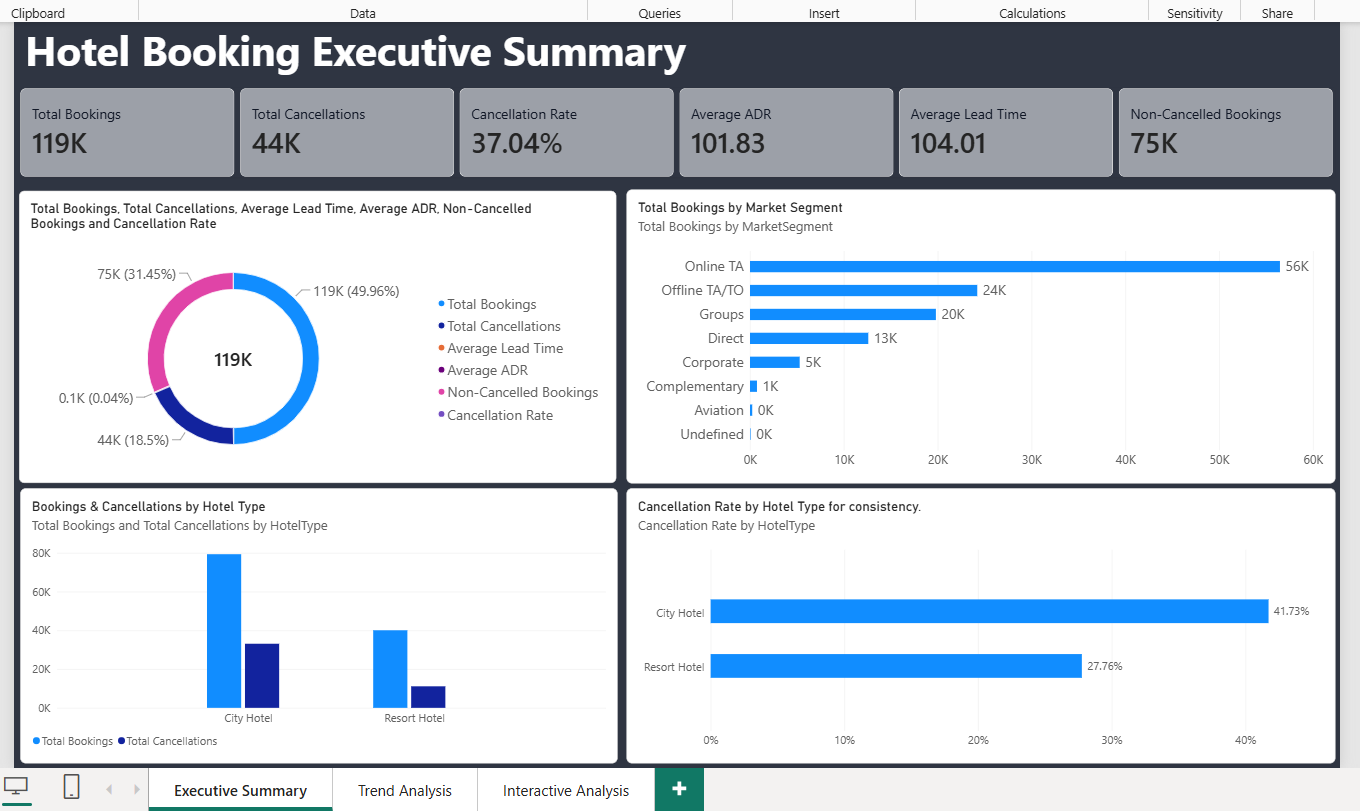

The dashboard page shown, as its layout file describes it:
{"tool":"powerbi","page":{"name":"Executive Summary","canvas":[1920,1080],"ordinal":0},"visuals":[{"type":"cardVisual","fields":{"Data":["mart BookingCancellationAnalysis.Total Bookings","mart BookingCancellationAnalysis.Total Cancellations","mart BookingCancellationAnalysis.Cancellation Rate","mart BookingCancellationAnalysis.Average ADR","mart BookingCancellationAnalysis.Average Lead Time","mart BookingCancellationAnalysis.Non-Cancelled Bookings"]},"box":[9,95.9,1903.8,128.5],"z":0},{"type":"clusteredColumnChart","title":"Bookings & Cancellations by Hotel Type","fields":{"Category":["mart BookingCancellationAnalysis.HotelType"],"Y":["mart BookingCancellationAnalysis.Total Bookings","mart BookingCancellationAnalysis.Total Cancellations"]},"box":[9,675,865,398.1],"z":6000},{"type":"clusteredBarChart","title":"Cancellation Rate by Hotel Type for consistency.","fields":{"Category":["mart BookingCancellationAnalysis.HotelType"],"Y":["mart BookingCancellationAnalysis.Cancellation Rate"]},"box":[886.7,675,1026.1,398.1],"z":7000},{"type":"clusteredBarChart","title":"Total Bookings by Market Segment","fields":{"Category":["mart BookingCancellationAnalysis.MarketSegment"],"Y":["mart BookingCancellationAnalysis.Total Bookings"]},"box":[886.7,242.5,1026.1,425.3],"z":8000},{"type":"textbox","box":[0,0,1912.1,135],"z":9000},{"type":"donutChart","fields":{"Y":["mart BookingCancellationAnalysis.Total Bookings","mart BookingCancellationAnalysis.Total Cancellations","mart BookingCancellationAnalysis.Average Lead Time","mart BookingCancellationAnalysis.Average ADR","mart BookingCancellationAnalysis.Non-Cancelled Bookings","mart BookingCancellationAnalysis.Cancellation Rate"]},"box":[7.2,244.3,865,423.5],"z":10000}]}

Visuals, with their boxes in screenshot pixels (x1, y1, x2, y2):
cardVisual - mart BookingCancellationAnalysis.Total Bookings x mart BookingCancellationAnalysis.Total Cancellations: bbox=(10, 81, 1340, 171)
"Bookings & Cancellations by Hotel Type" clusteredColumnChart: bbox=(10, 486, 614, 764)
"Cancellation Rate by Hotel Type for consistency." clusteredBarChart: bbox=(623, 486, 1340, 764)
"Total Bookings by Market Segment" clusteredBarChart: bbox=(623, 184, 1340, 481)
textbox: bbox=(4, 14, 1339, 108)
donutChart - mart BookingCancellationAnalysis.Total Bookings x mart BookingCancellationAnalysis.Total Cancellations: bbox=(9, 185, 613, 481)
